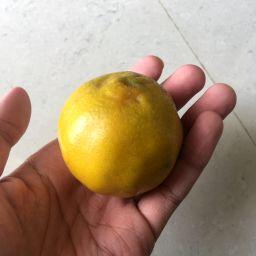Ripe: (59, 71, 183, 196)
